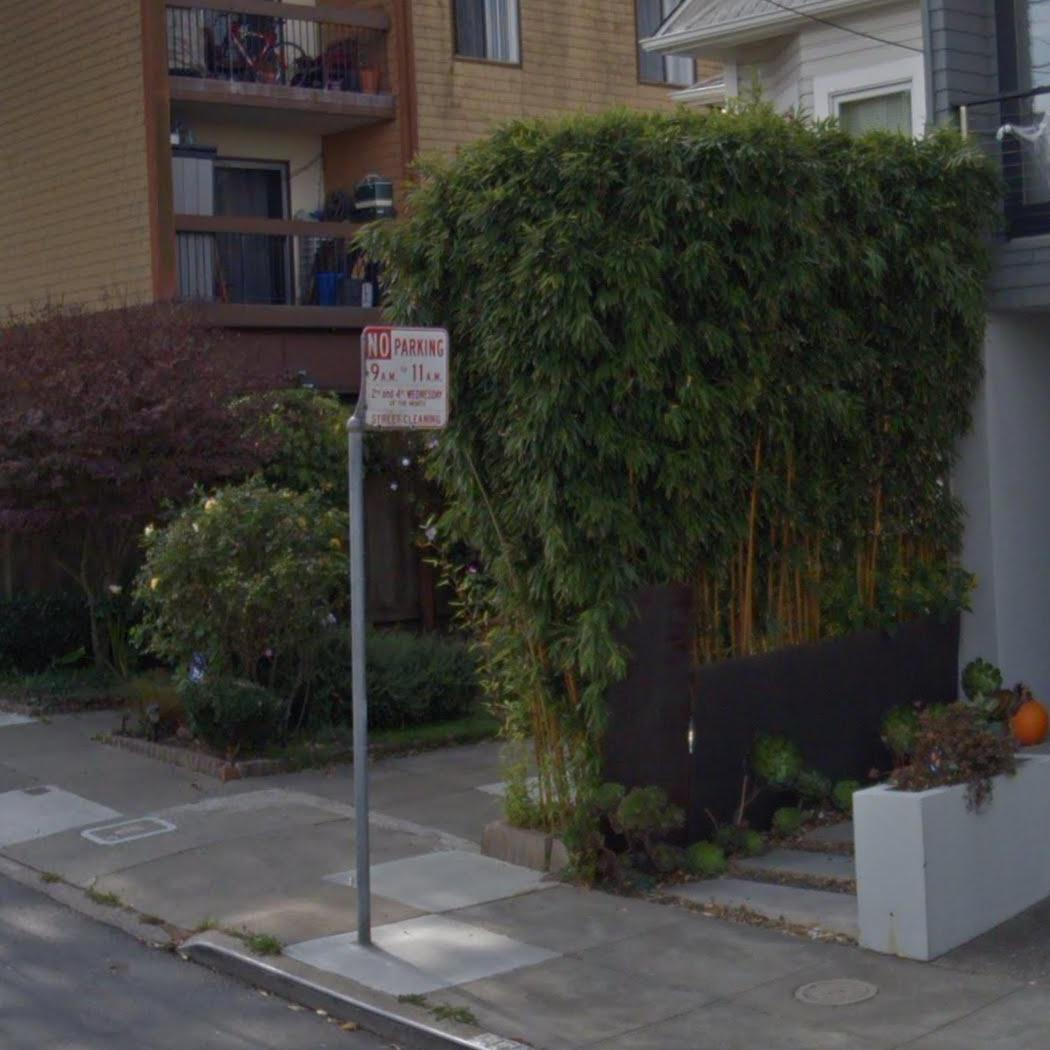No Parking: (363, 320, 455, 433)
